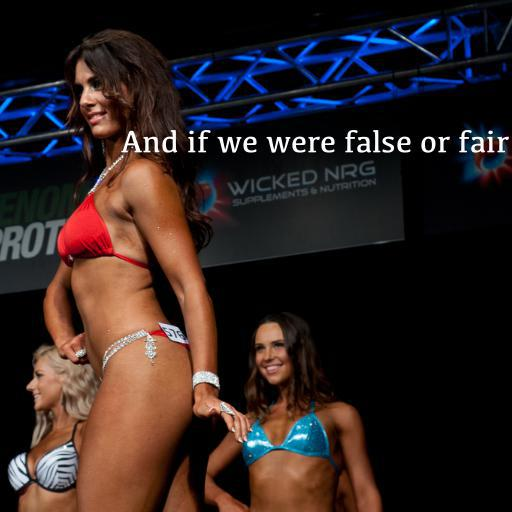Kefa: (121, 130, 509, 153)
